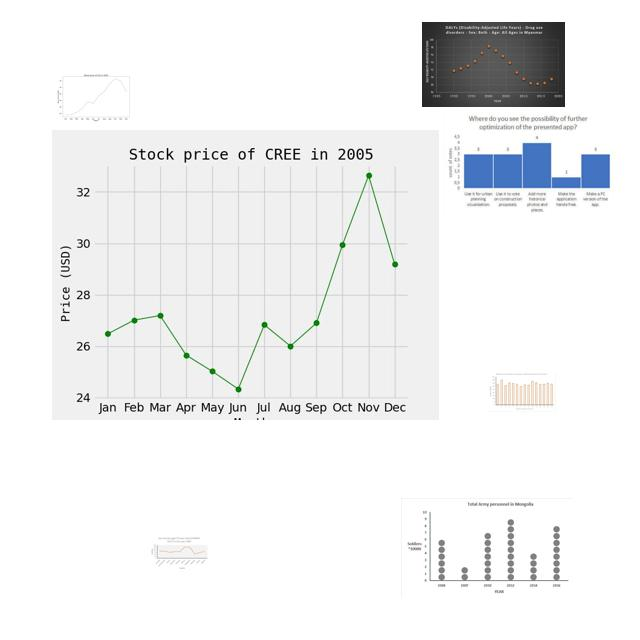Graph: (52, 130, 439, 420), (443, 112, 614, 215), (401, 498, 572, 598), (422, 22, 565, 107), (52, 67, 138, 126), (488, 372, 556, 412), (150, 536, 208, 570)
